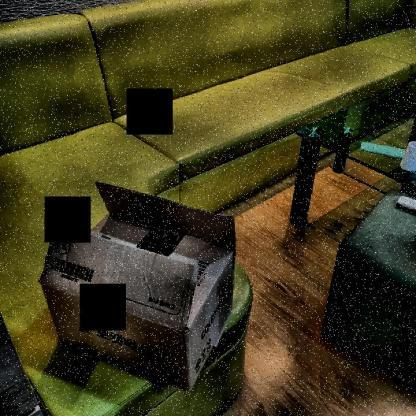-: (38, 178, 242, 388)
